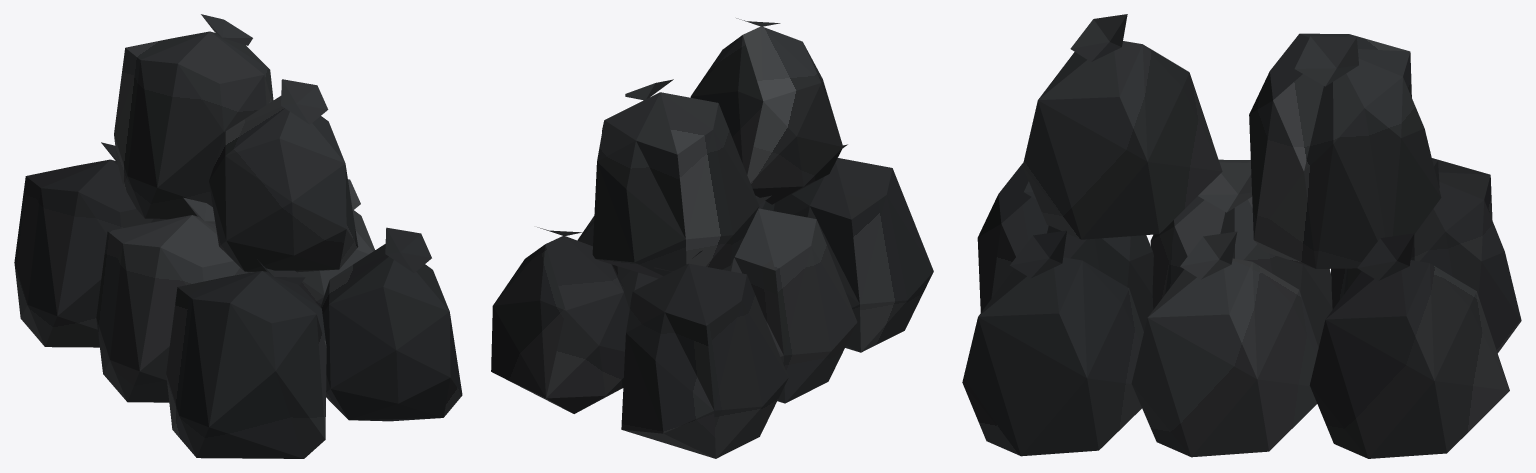
Rendered from trash bags 1.fbx.
The picture shows the model from 3 angles, left to right: view 1: azimuth 30°, elevation 25°; view 2: azimuth 150°, elevation 25°; view 3: azimuth 270°, elevation 25°; orthographic projection. The views are drawn at different scales.
Parts seen in each view (by area): view 1: polySurface8, polySurface30, Trash_BAGS, polySurface1, polySurface14, polySurface36, polySurface39; view 2: polySurface14, Trash_BAGS, polySurface18, polySurface30, polySurface8, polySurface36, polySurface39; view 3: Trash_BAGS, polySurface18, polySurface30, polySurface39, polySurface1, polySurface14, polySurface36, polySurface8.
Part boxes in pixels (left/top/right/bottom): polySurface8: left=166, top=259, right=326, bottom=458; polySurface30: left=209, top=79, right=358, bottom=272; Trash_BAGS: left=114, top=14, right=273, bottom=218; polySurface1: left=320, top=227, right=462, bottom=421; polySurface14: left=14, top=142, right=169, bottom=347; polySurface36: left=96, top=197, right=253, bottom=402; polySurface39: left=298, top=179, right=374, bottom=306; polySurface14: left=621, top=250, right=788, bottom=458; Trash_BAGS: left=592, top=79, right=759, bottom=278; polySurface18: left=491, top=227, right=629, bottom=413; polySurface30: left=690, top=18, right=843, bottom=204; polySurface8: left=773, top=144, right=933, bottom=352; polySurface36: left=722, top=195, right=857, bottom=403; polySurface39: left=577, top=216, right=657, bottom=306; Trash_BAGS: left=1249, top=33, right=1441, bottom=268; polySurface18: left=1309, top=233, right=1509, bottom=458; polySurface30: left=1022, top=14, right=1222, bottom=239; polySurface39: left=1131, top=231, right=1318, bottom=457; polySurface1: left=962, top=230, right=1143, bottom=456; polySurface14: left=1331, top=158, right=1521, bottom=353; polySurface36: left=1150, top=159, right=1332, bottom=347; polySurface8: left=977, top=163, right=1153, bottom=331.
Size of the model in its own units: 1.35 by 1.54 by 2.04.
Materials: 1 (1 with a texture image).
